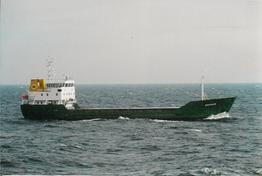Cargoship: (17, 54, 239, 126)
